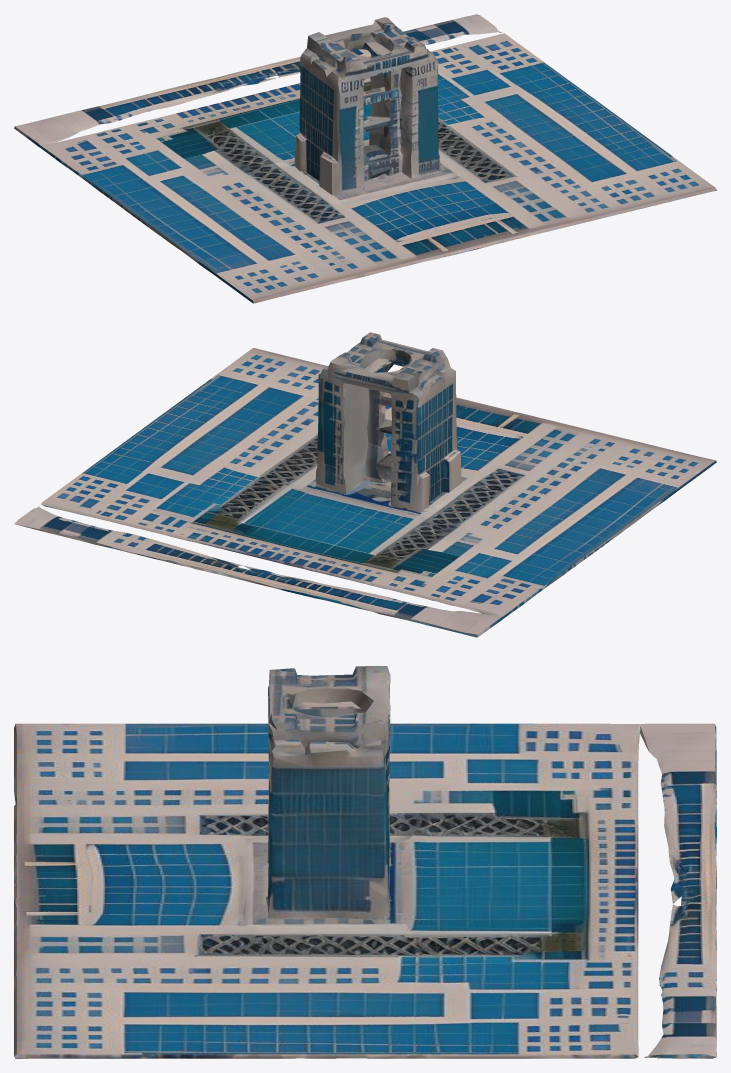
File: umeda-sky-building.glb
3 views of the same model, one above another, from view 1: azimuth 30°, elevation 25°; view 2: azimuth 150°, elevation 25°; view 3: azimuth 270°, elevation 25° (orthographic). The views are drawn at different scales.
Visible parts, largest first — view 1: logan-textured.obj; view 2: logan-textured.obj; view 3: logan-textured.obj.
Part boxes in pixels (bbox=[...]): logan-textured.obj: bbox=[14, 14, 716, 303]; logan-textured.obj: bbox=[14, 332, 716, 637]; logan-textured.obj: bbox=[14, 666, 716, 1058].
Bounding box in the file's own units: 1 × 0.28 × 0.8954.
1 material, 1 textured.
